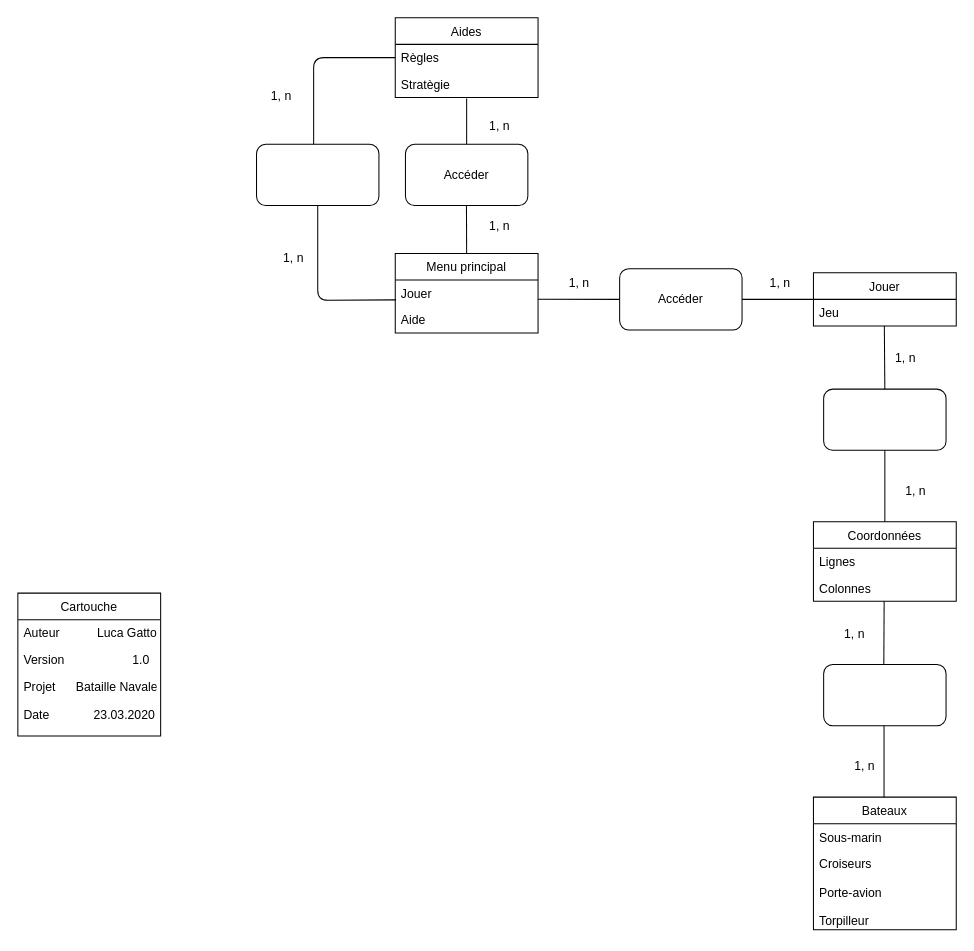
This 974x951 diagram has some shape labels left out. Each missing label, with the centre of its shape:
Entrez: point (884, 419)
Retourner: point (317, 174)
Toucher/Couler: point (884, 695)
